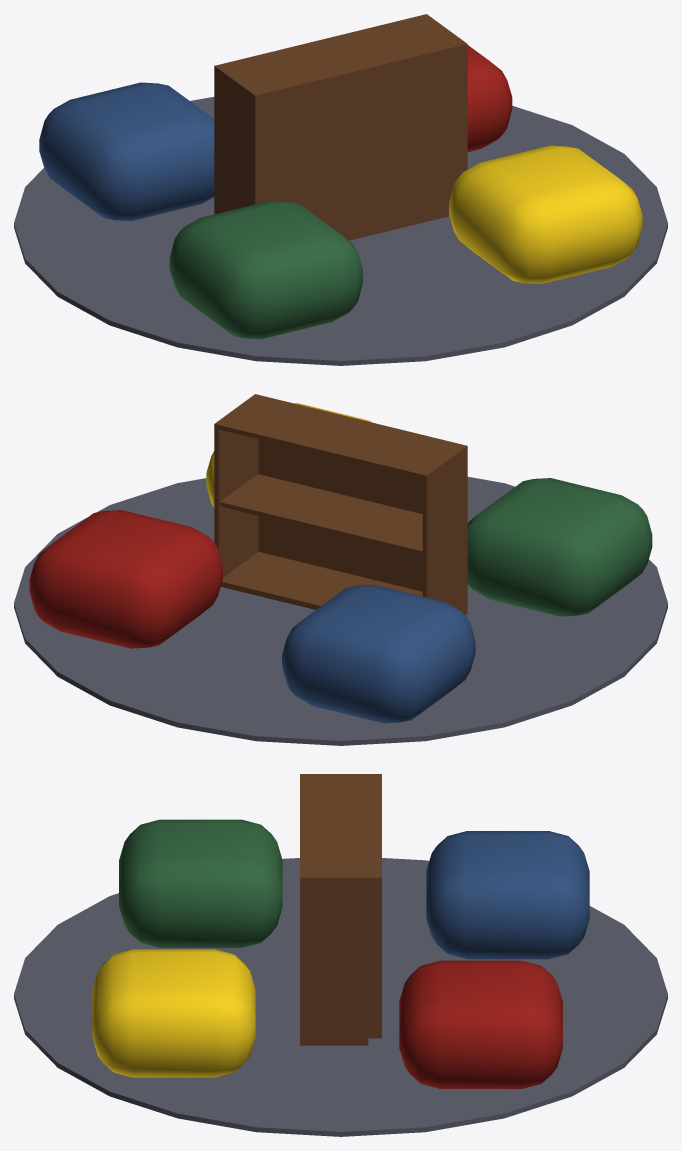
The model's file is school.library.reading_corner.glb.
3 renders of one model, top to bottom at view 1: azimuth 30°, elevation 25°; view 2: azimuth 150°, elevation 25°; view 3: azimuth 270°, elevation 25°, orthographic.
Visible parts, largest first — view 1: main__carpet, main__hardwood, main__fabric_green, main__plastic_yellow, main__fabric_blue, main__fabric_red; view 2: main__carpet, main__hardwood, main__fabric_blue, main__fabric_red, main__fabric_green; view 3: main__carpet, main__hardwood, main__fabric_green, main__fabric_blue, main__plastic_yellow, main__fabric_red.
Boxes of the visible parts, <box> form: main__carpet: <box>14,97,667,365</box>; main__hardwood: <box>214,14,467,240</box>; main__fabric_green: <box>169,200,362,339</box>; main__plastic_yellow: <box>449,145,642,283</box>; main__fabric_blue: <box>39,82,214,220</box>; main__fabric_red: <box>467,45,512,151</box>; main__carpet: <box>14,477,667,745</box>; main__hardwood: <box>214,394,467,615</box>; main__fabric_blue: <box>282,584,475,723</box>; main__fabric_red: <box>29,510,222,648</box>; main__fabric_green: <box>467,478,652,616</box>; main__carpet: <box>14,858,667,1136</box>; main__hardwood: <box>300,774,381,1045</box>; main__fabric_green: <box>119,819,282,947</box>; main__fabric_blue: <box>426,831,589,959</box>; main__plastic_yellow: <box>92,949,255,1077</box>; main__fabric_red: <box>399,960,562,1088</box>.
Bounding box in the file's own units: 2.4 × 0.704 × 2.4.
